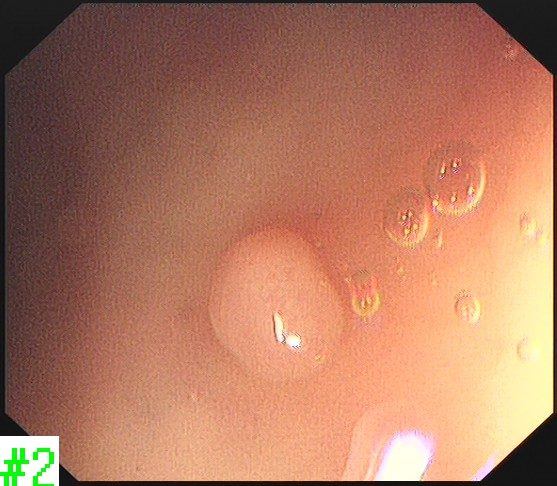others: (201, 222, 349, 386)
